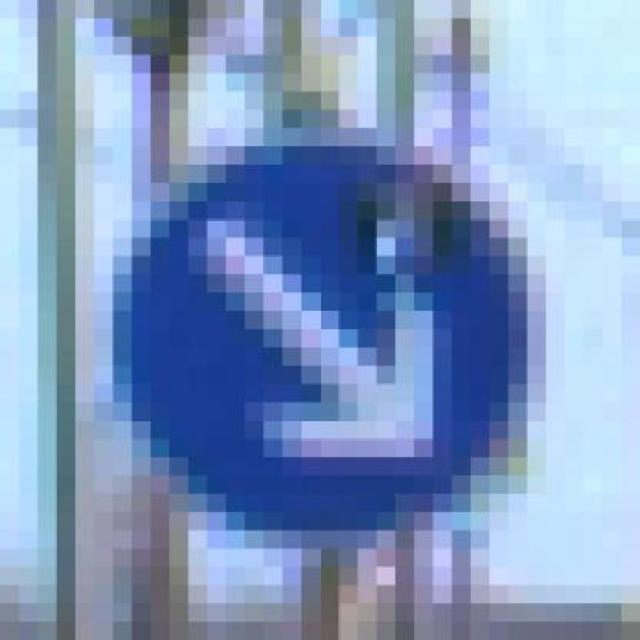Keep-Right: (76, 110, 564, 548)
